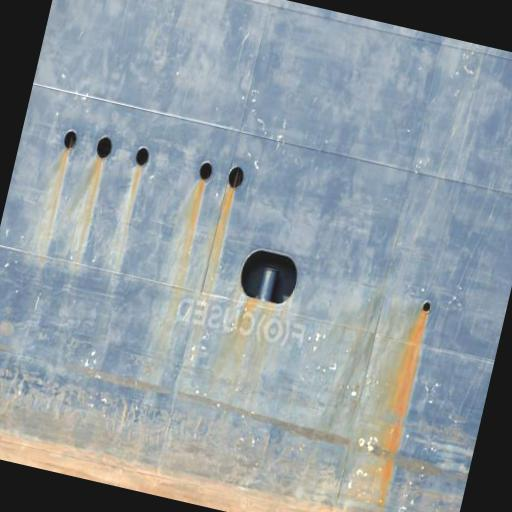corrosion: (365, 298, 433, 512), (196, 164, 247, 295), (185, 180, 205, 249)
